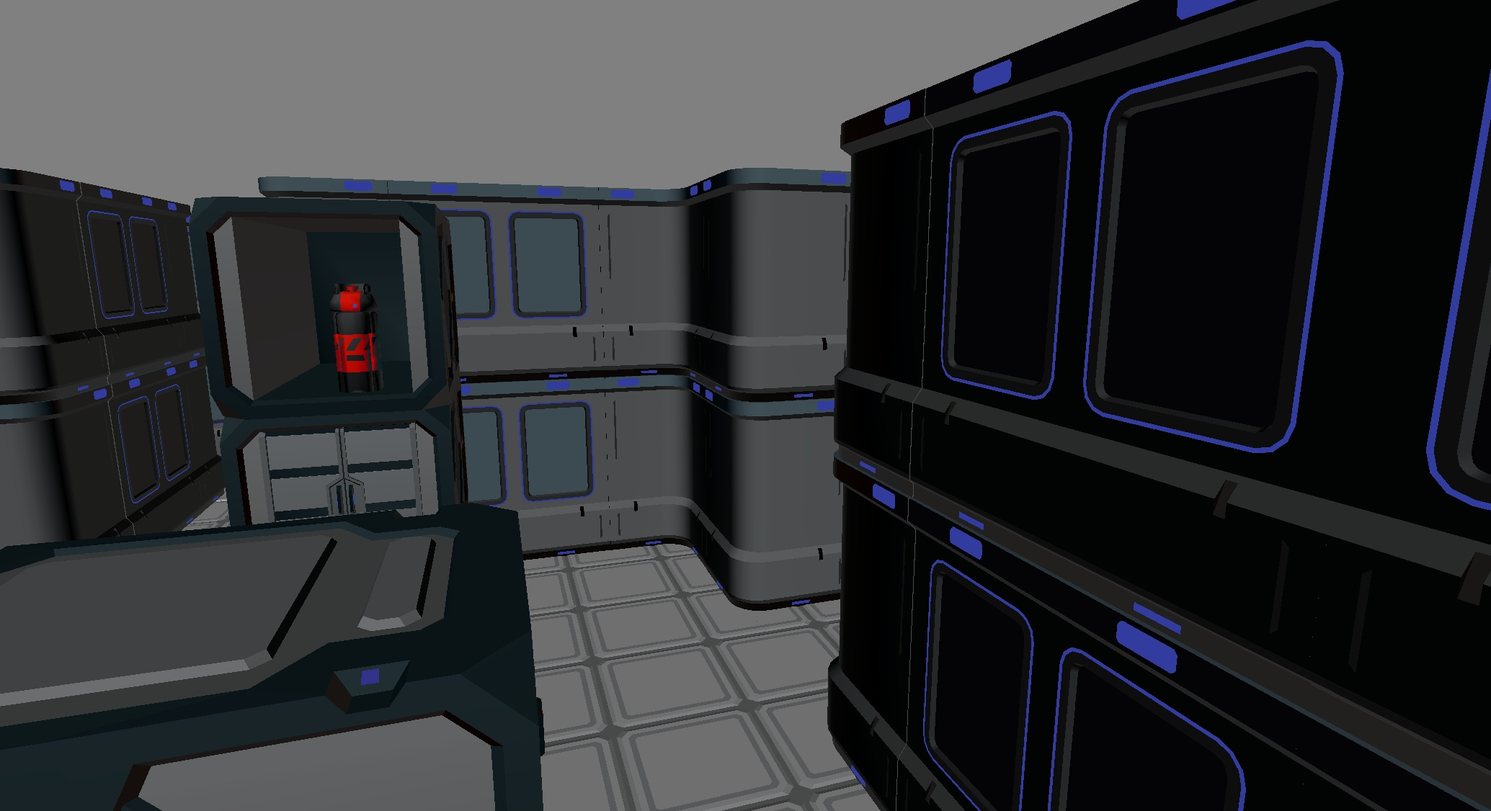red_barrel: (331, 284, 382, 392)
